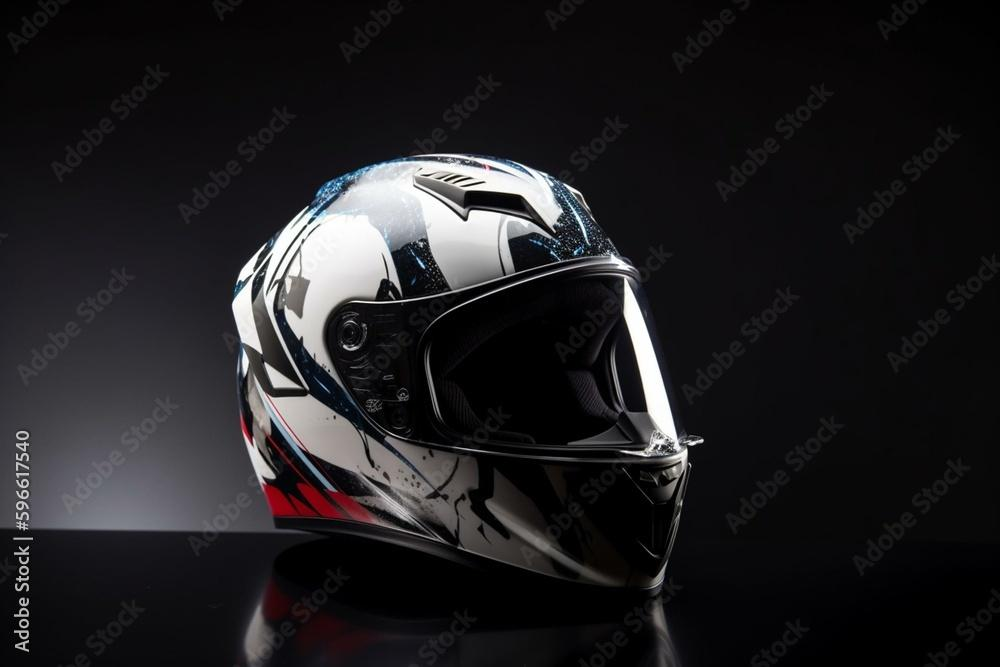helmet: (227, 149, 707, 604)
